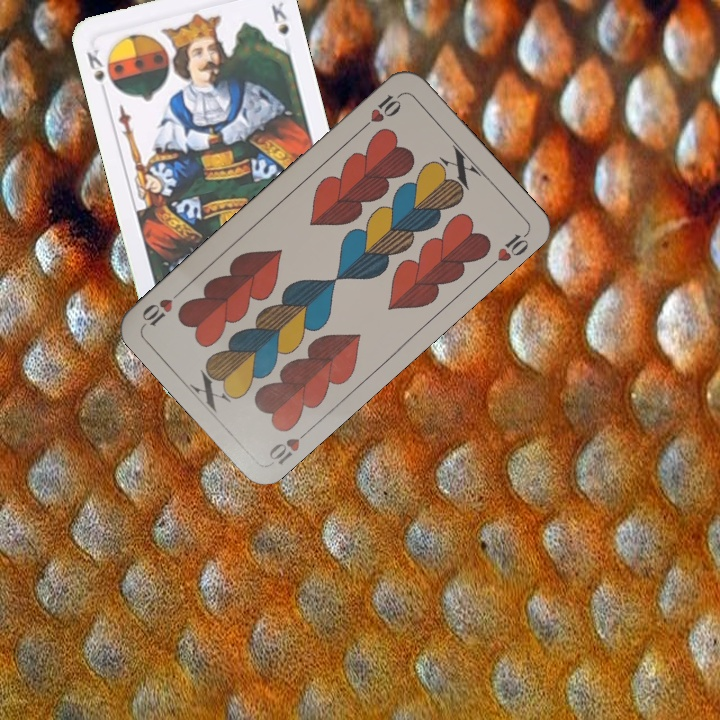H10: (264, 423, 314, 467), (356, 89, 404, 134)
SK: (82, 45, 119, 99)
